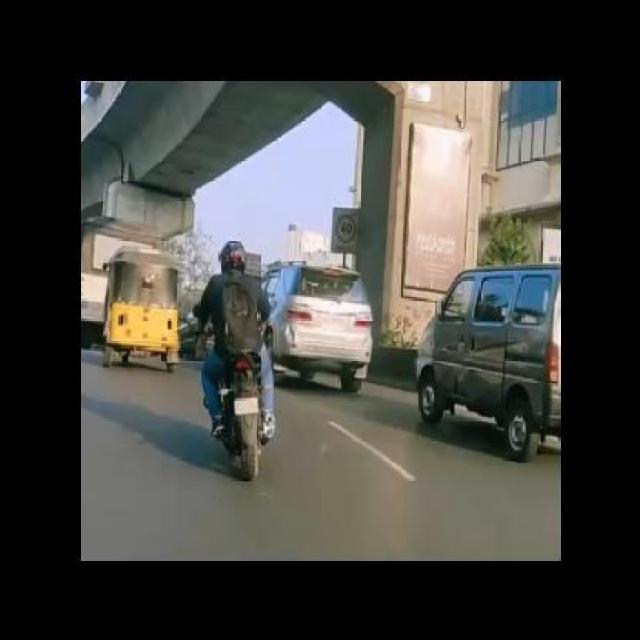car: (415, 265, 560, 463), (274, 266, 374, 394)
motorbike: (195, 240, 275, 482)
